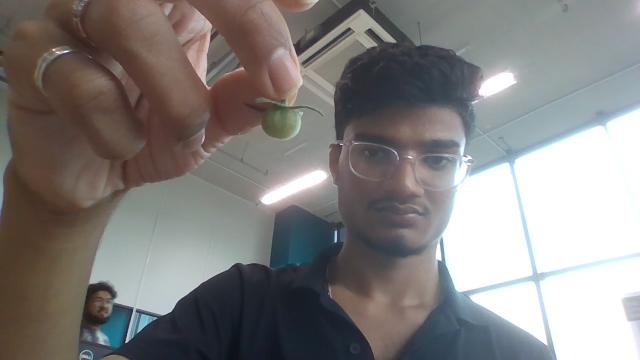Fruit Maturation: (260, 103, 302, 141)
